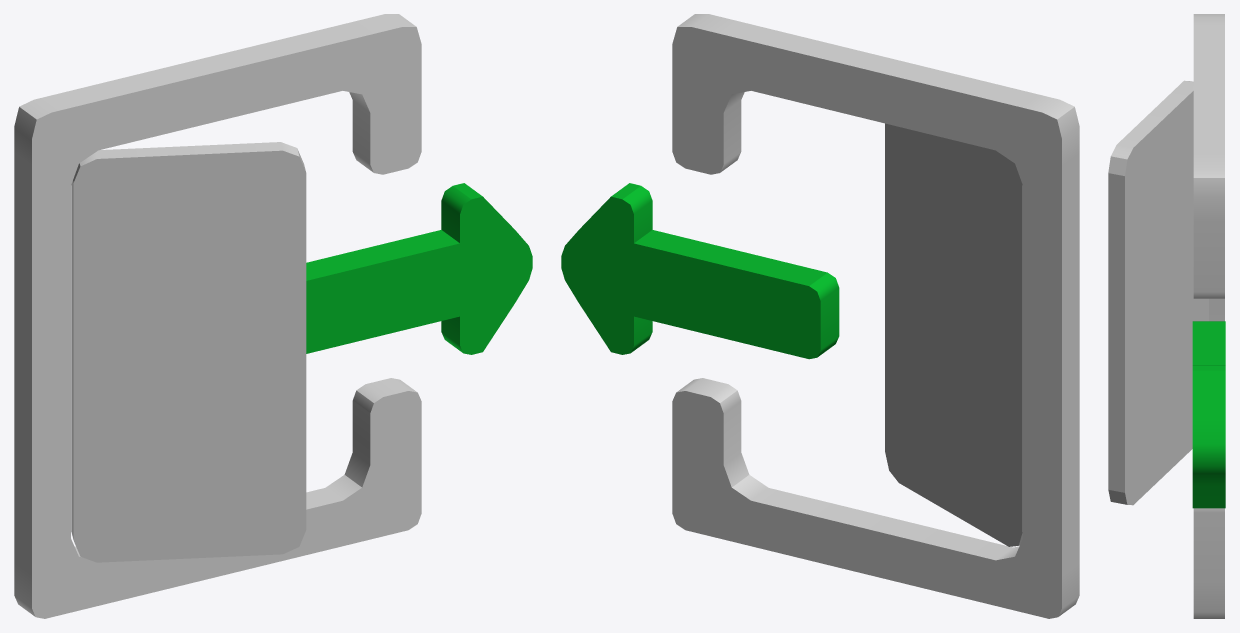
The model's file is Icono_Salir.fbx.
3 renders of one model, left to right at view 1: azimuth 30°, elevation 25°; view 2: azimuth 150°, elevation 25°; view 3: azimuth 270°, elevation 25°, orthographic. The views are drawn at different scales.
Visible parts, largest first — view 1: Icono_Salir; view 2: Icono_Salir; view 3: Icono_Salir.
Boxes of the visible parts, bbox=[...] form: Icono_Salir: bbox=[14, 14, 532, 618]; Icono_Salir: bbox=[561, 14, 1079, 618]; Icono_Salir: bbox=[1108, 14, 1225, 618].
Bounding box in the file's own units: 20.68 × 19.95 × 4.75.
